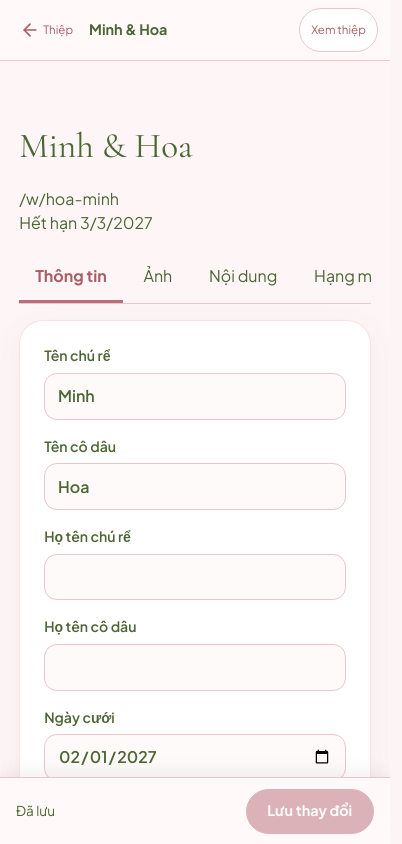
Test: phone editing controls › shows an enabled bottom save button after a mobile edit
Step 1. Replace the text in the field labelled "Tên chú rể" with "Minh mới" → [195, 396], box [44,373,346,420]
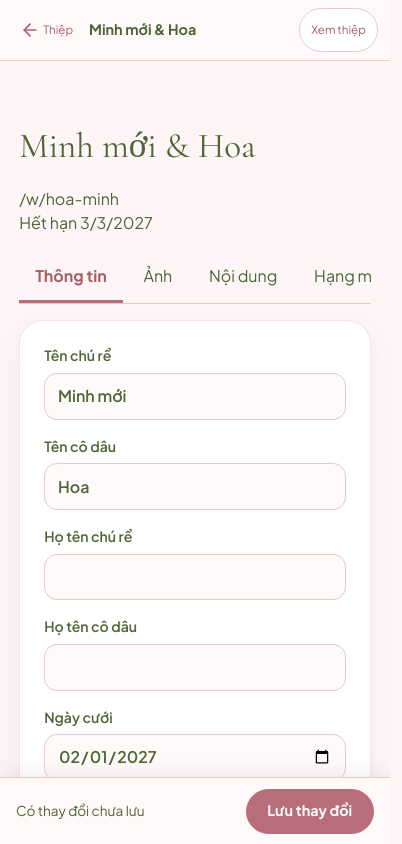
Check: the button "Lưu thay đổi" is shown, box [246,789,374,834]
Check: the button "Lưu thay đổi" is enabled, box [246,789,374,834]
